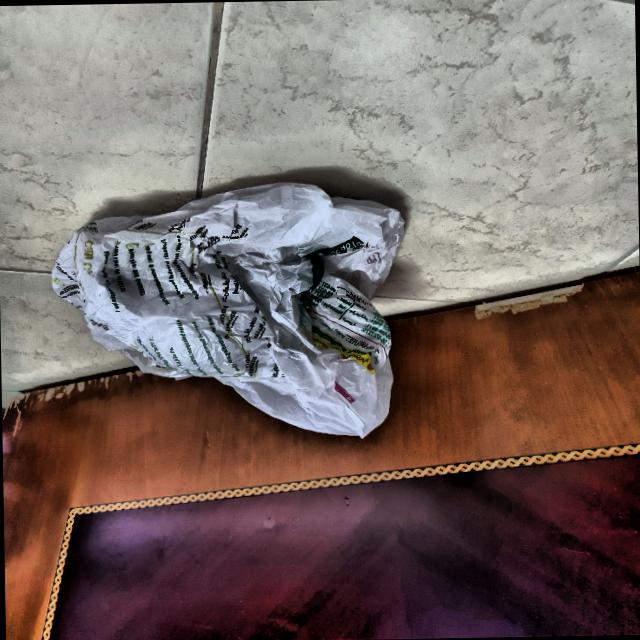plastic bag: (51, 178, 410, 454)
